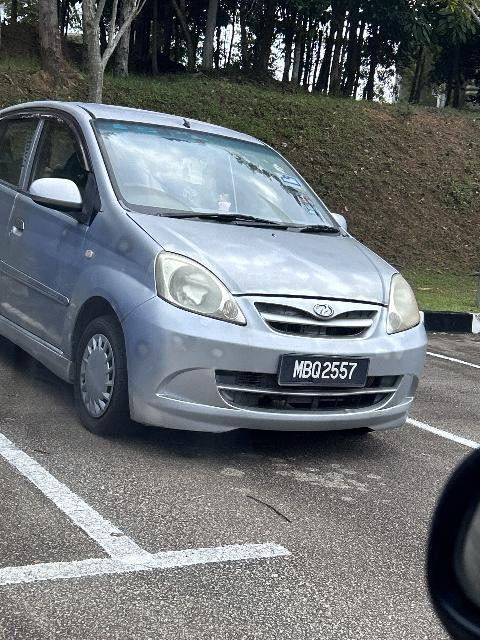License_Plate: (277, 350, 372, 395)
MBQ2557: (277, 350, 372, 395)
car: (2, 96, 441, 448)
